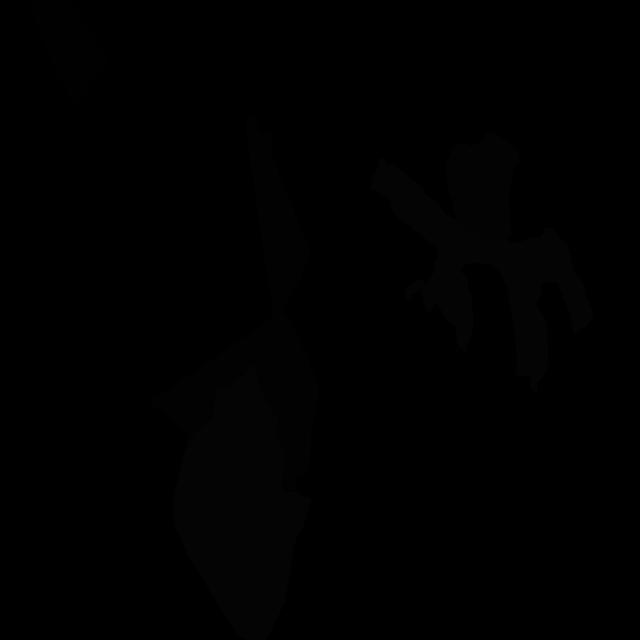cardboard: (148, 304, 319, 491), (246, 117, 310, 308)
metal: (446, 132, 521, 239)
rigid_plastic: (28, 0, 109, 106)
soft_plastic: (370, 157, 594, 393), (173, 363, 312, 640)
